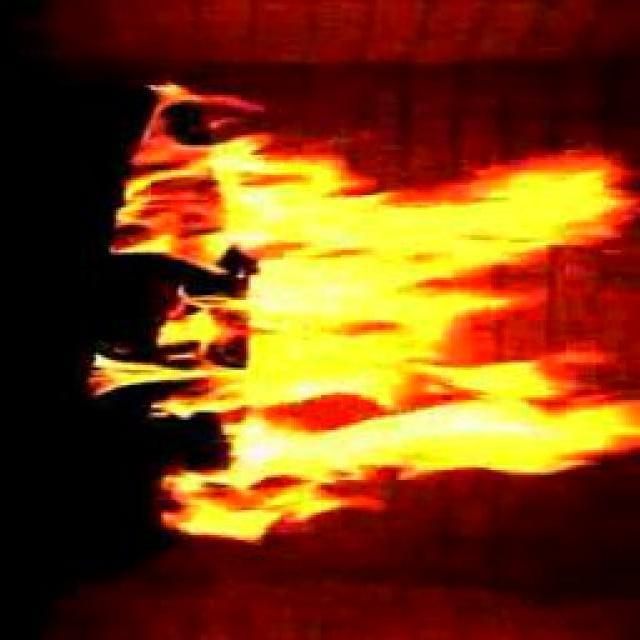Fire: (181, 161, 599, 529)
